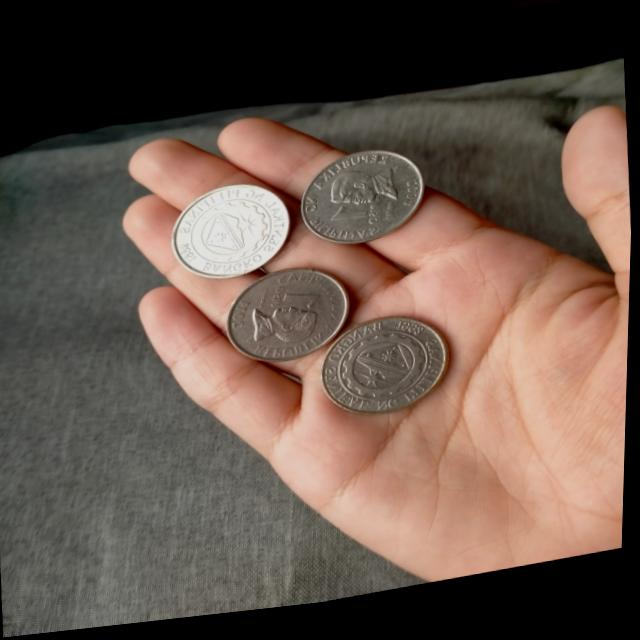1_Old_Back: (336, 330, 441, 420), (183, 194, 282, 278)
